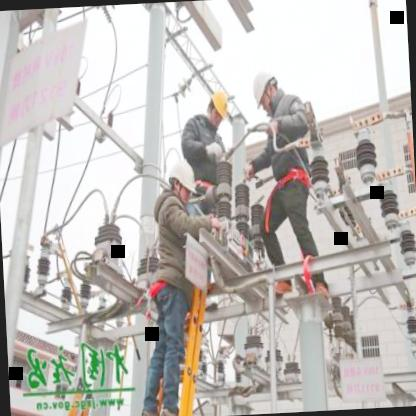helmet: (249, 62, 280, 113), (164, 152, 192, 202), (204, 86, 233, 127)
